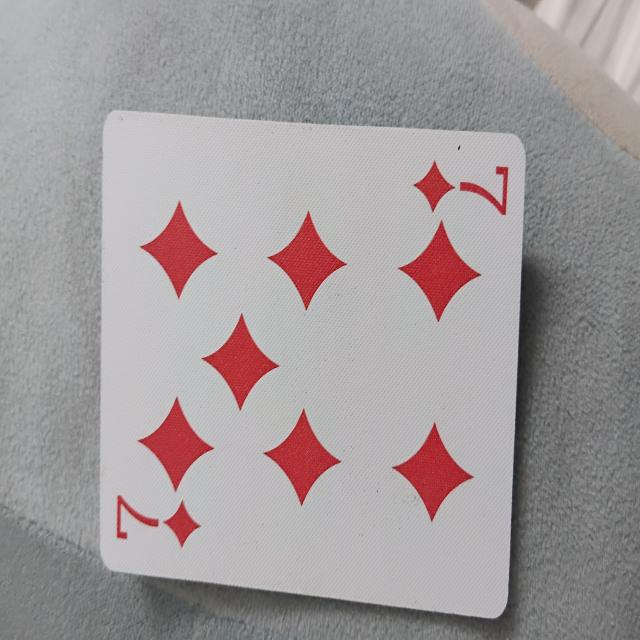7D: (101, 114, 522, 615)
